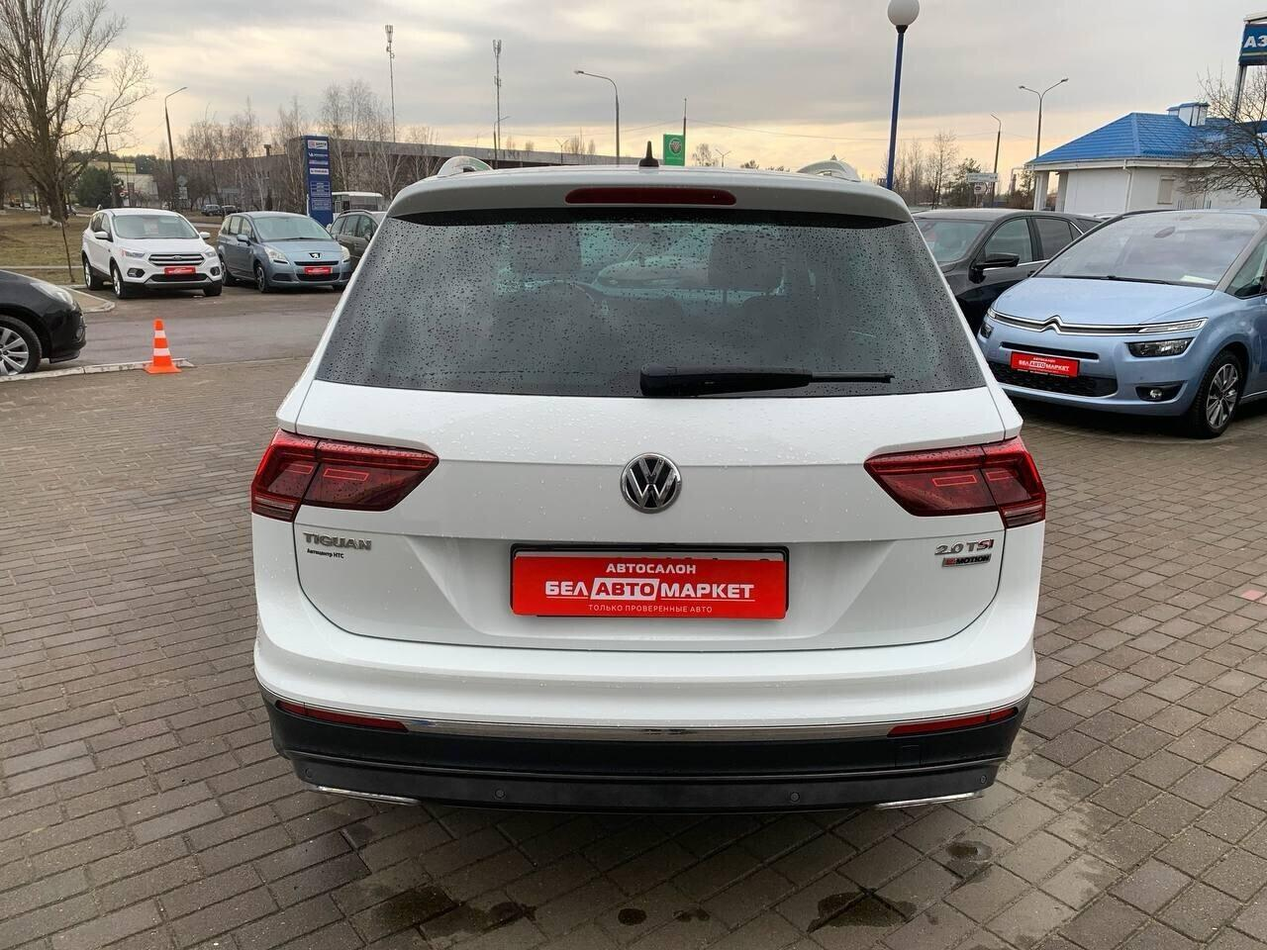Tiguan_2016-2021: (239, 156, 1052, 828)
